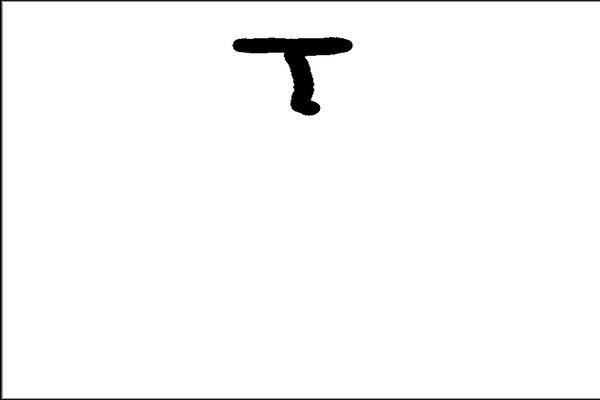T: (222, 31, 363, 118)
